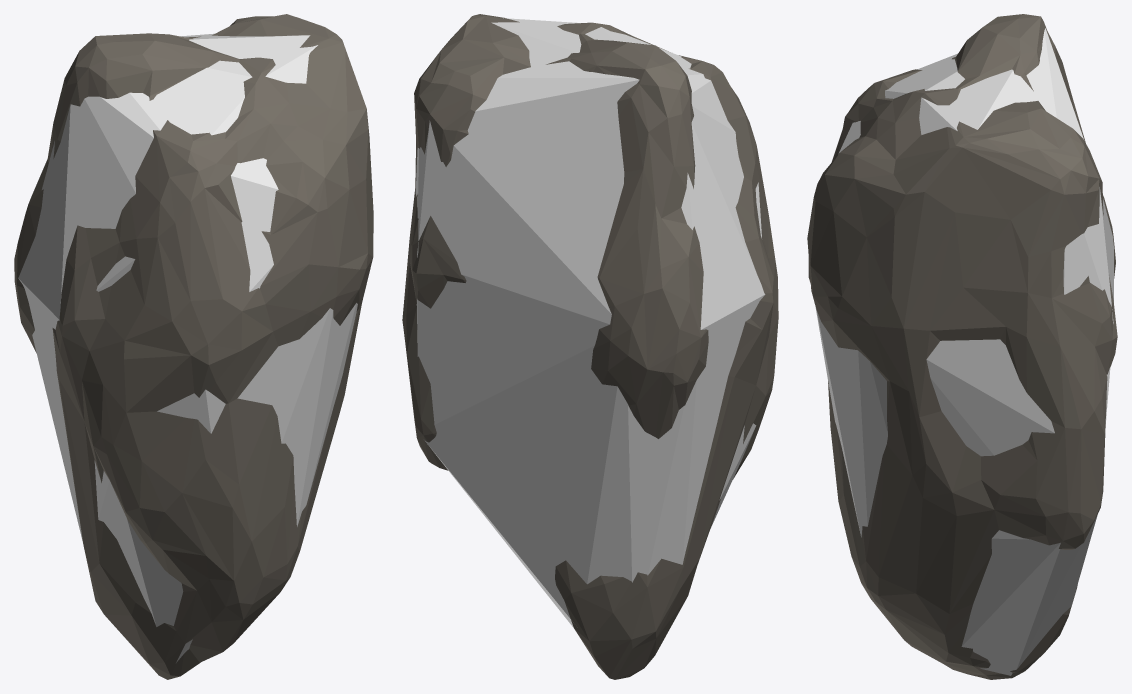
The model's file is SM_Env_Asteroid_04.fbx.
3 renders of one model, left to right at view 1: azimuth 30°, elevation 25°; view 2: azimuth 150°, elevation 25°; view 3: azimuth 270°, elevation 25°, orthographic. The views are drawn at different scales.
Visible parts, largest first — view 1: SM_Env_Asteroid_04_LOD0, SM_Env_Asteroid_04_ConvexHulls; view 2: SM_Env_Asteroid_04_ConvexHulls, SM_Env_Asteroid_04_LOD0; view 3: SM_Env_Asteroid_04_LOD0, SM_Env_Asteroid_04_ConvexHulls.
Boxes of the visible parts, <box> form: SM_Env_Asteroid_04_LOD0: <box>14,14,373,679</box>; SM_Env_Asteroid_04_ConvexHulls: <box>18,33,357,662</box>; SM_Env_Asteroid_04_ConvexHulls: <box>415,18,765,627</box>; SM_Env_Asteroid_04_LOD0: <box>402,14,778,679</box>; SM_Env_Asteroid_04_LOD0: <box>807,14,1117,679</box>; SM_Env_Asteroid_04_ConvexHulls: <box>815,28,1113,675</box>.
Bounding box in the file's own units: 531 × 618 × 1218.
Materials: 1 (1 with a texture image).
